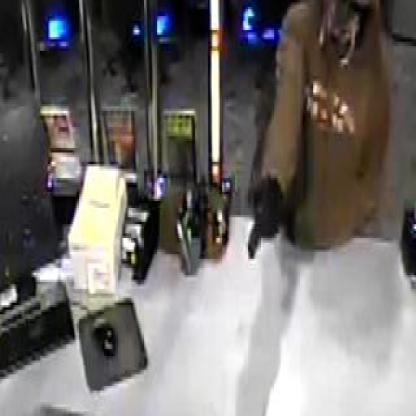gun: (238, 171, 285, 273)
